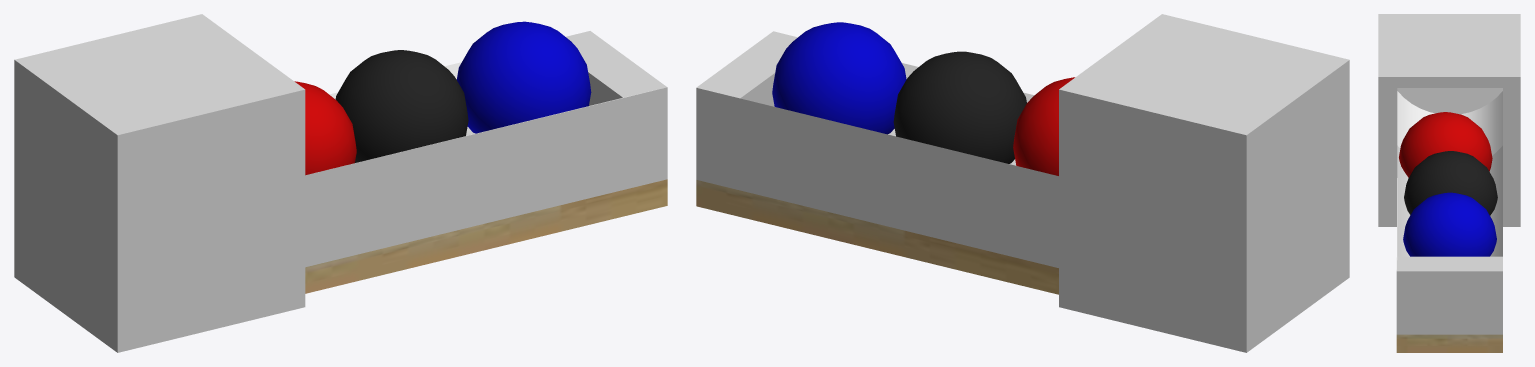
File: balls.dae
3 renders of one model, left to right at view 1: azimuth 30°, elevation 25°; view 2: azimuth 150°, elevation 25°; view 3: azimuth 270°, elevation 25°, orthographic. The views are drawn at different scales.
Visible parts, largest first — view 1: Model, SimpleSphere02_2, SimpleSphere02_1, SimpleSphere02_3; view 2: Model, SimpleSphere02_2, SimpleSphere02_1, SimpleSphere02_3; view 3: Model, SimpleSphere02_2, SimpleSphere02_1, SimpleSphere02_3.
Boxes of the visible parts, left/top/right/bottom form: Model: left=14, top=14, right=667, bottom=352; SimpleSphere02_2: left=456, top=21, right=591, bottom=133; SimpleSphere02_1: left=335, top=50, right=468, bottom=162; SimpleSphere02_3: left=294, top=81, right=356, bottom=175; Model: left=696, top=14, right=1349, bottom=352; SimpleSphere02_2: left=772, top=22, right=906, bottom=134; SimpleSphere02_1: left=893, top=51, right=1026, bottom=163; SimpleSphere02_3: left=1013, top=77, right=1074, bottom=175; Model: left=1378, top=14, right=1520, bottom=352; SimpleSphere02_2: left=1403, top=192, right=1496, bottom=256; SimpleSphere02_1: left=1404, top=151, right=1497, bottom=215; SimpleSphere02_3: left=1399, top=112, right=1492, bottom=177.
Bounding box in the file's own units: 83.25 × 26.42 × 30.75.
Materials: 6 (1 with a texture image).
